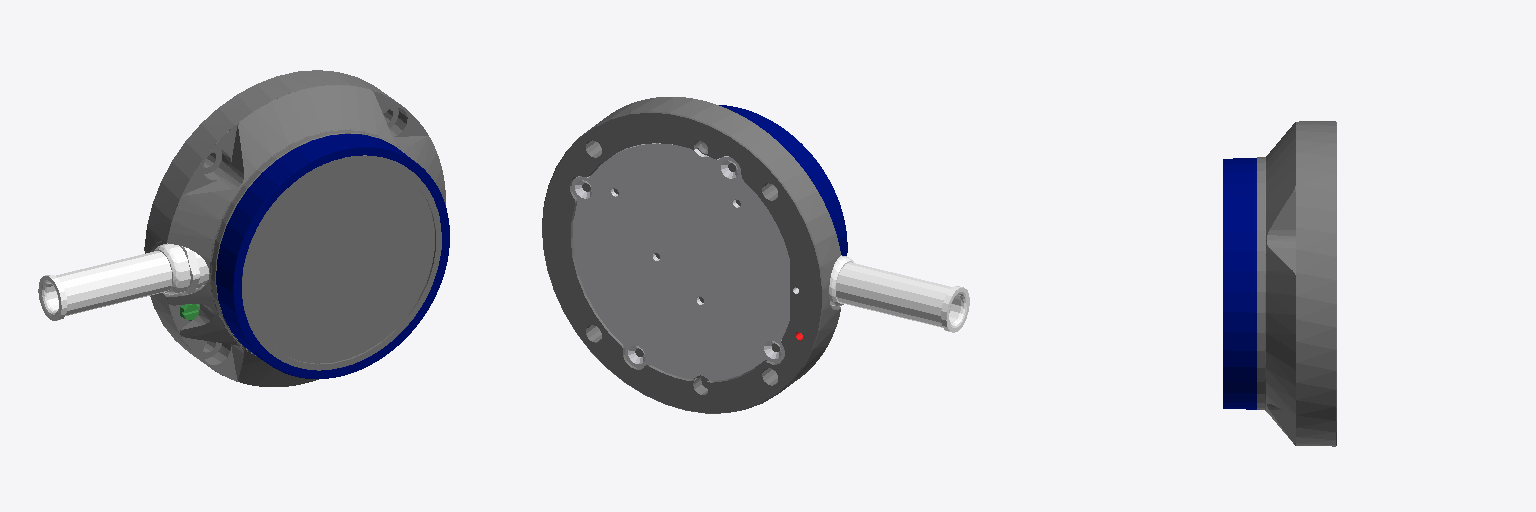
The picture shows the model from 3 angles: view 1: azimuth 30°, elevation 25°; view 2: azimuth 150°, elevation 25°; view 3: azimuth 270°, elevation 25°; orthographic projection.
Visible parts, largest first — view 1: Body1, Body2, Body3; view 2: Body5, Body1, Body3, Body2; view 3: Body1, Body2.
Part boxes in pixels (x1,y1,x2,y2): Body1: (144, 70, 445, 386); Body2: (216, 134, 449, 378); Body3: (38, 243, 209, 320); Body5: (571, 143, 789, 380); Body1: (542, 97, 840, 413); Body3: (829, 255, 969, 332); Body2: (719, 105, 847, 255); Body1: (1257, 121, 1336, 446); Body2: (1223, 158, 1256, 409).
Size of the model in its own units: 0.2095 by 0.1489 by 0.0525.